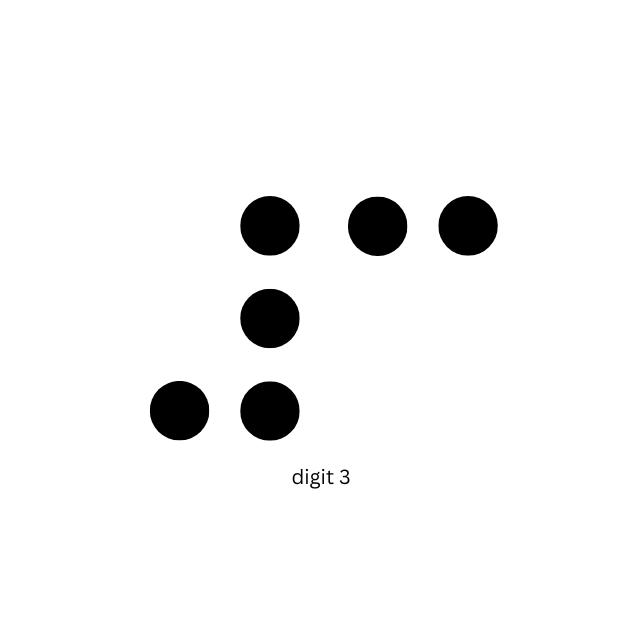digit_3: (346, 194, 498, 442)
number_sign: (146, 195, 302, 442)
